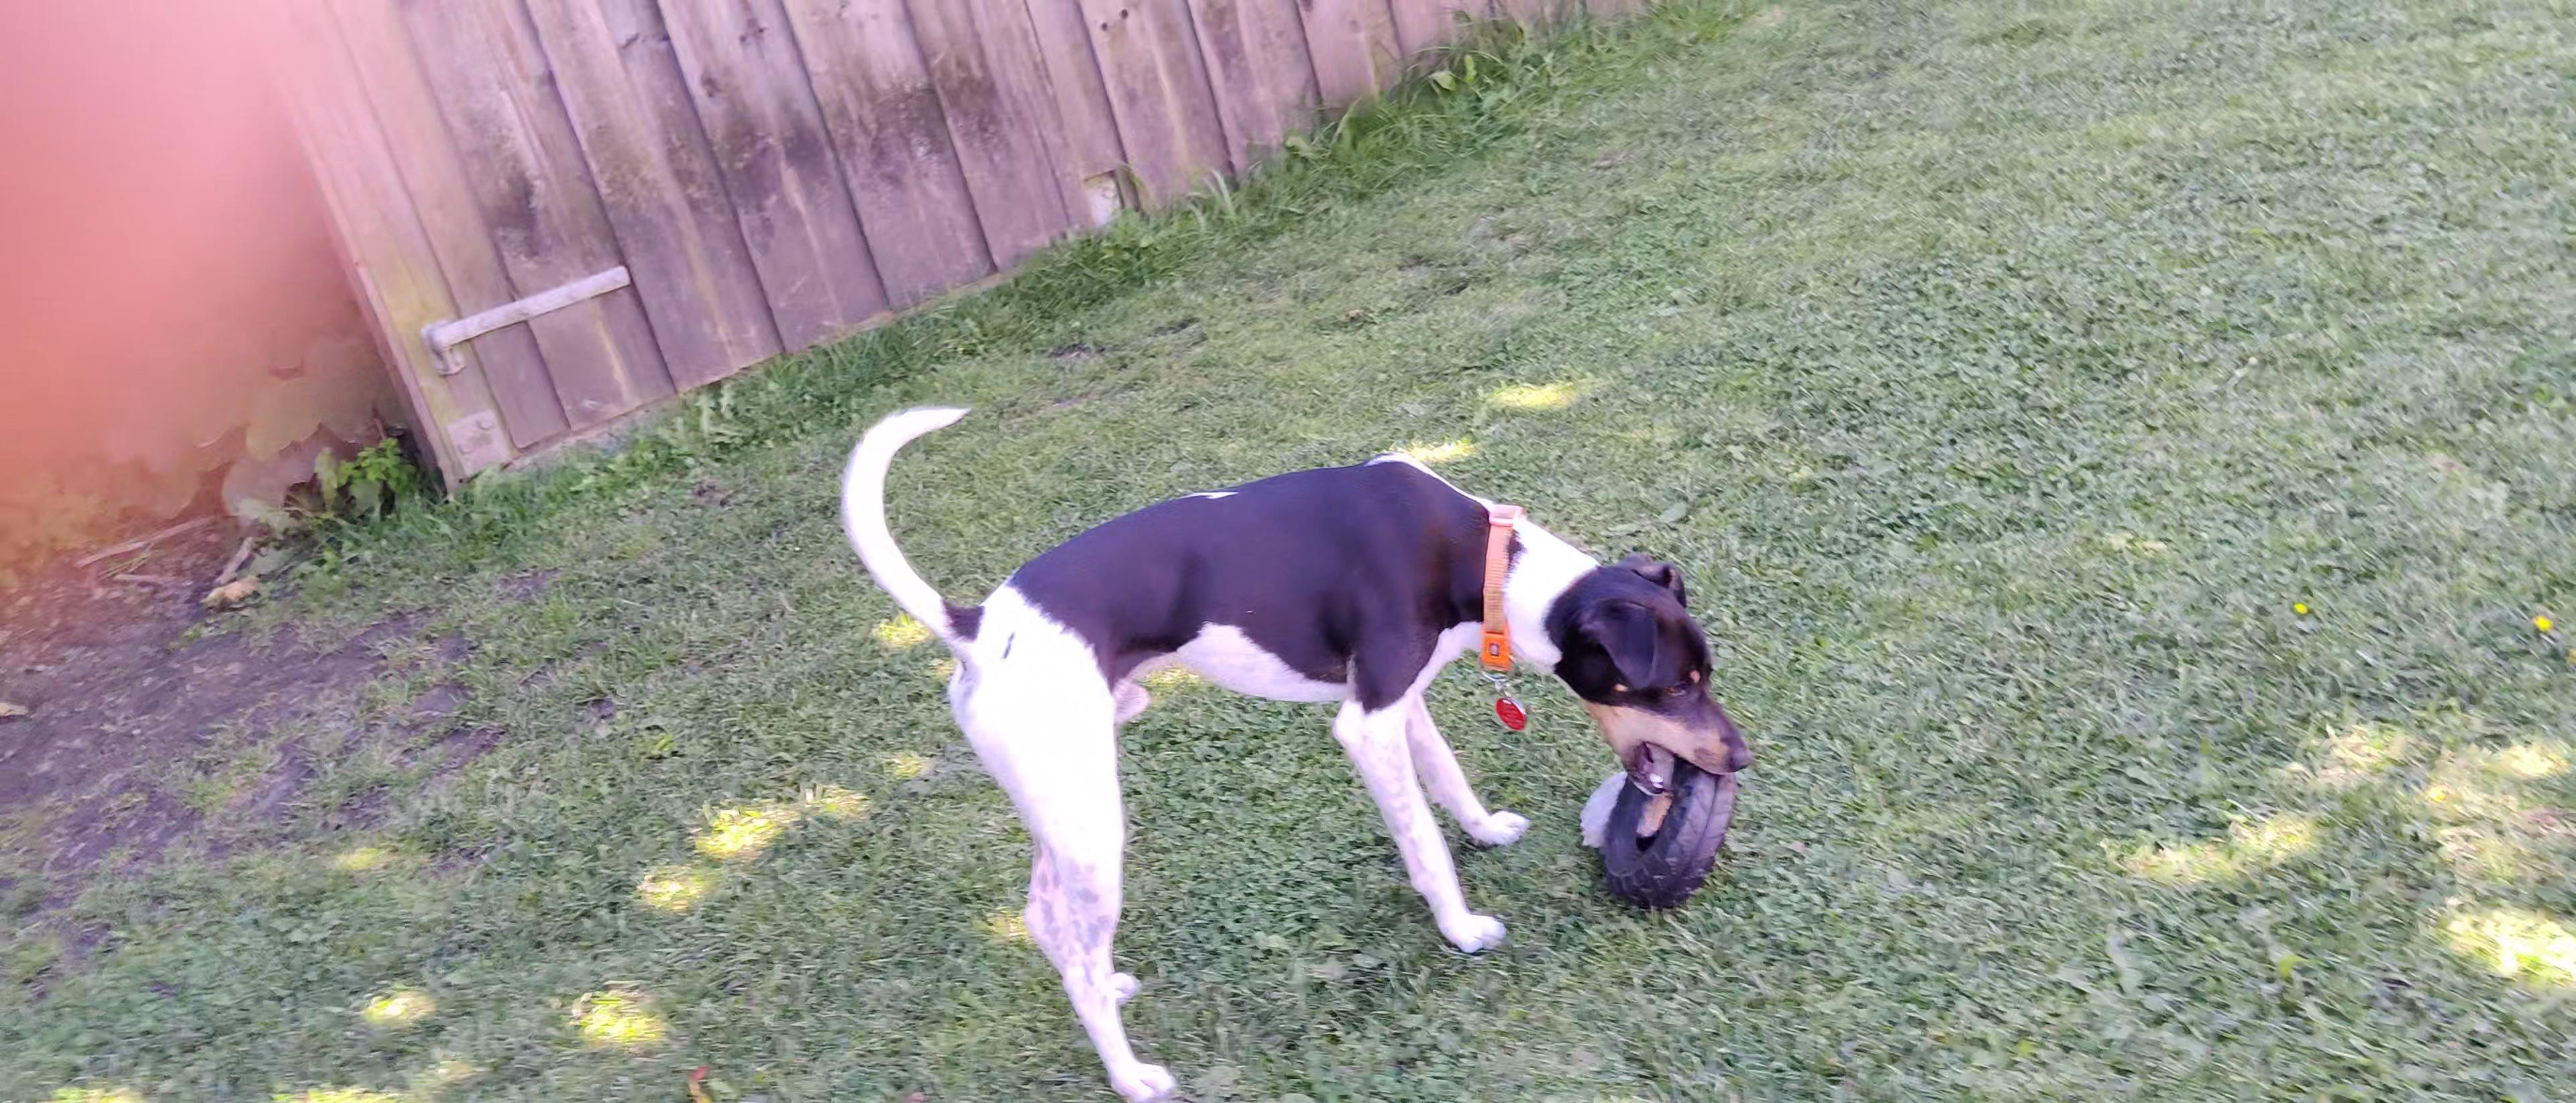Dog: (805, 365, 1773, 1103)
